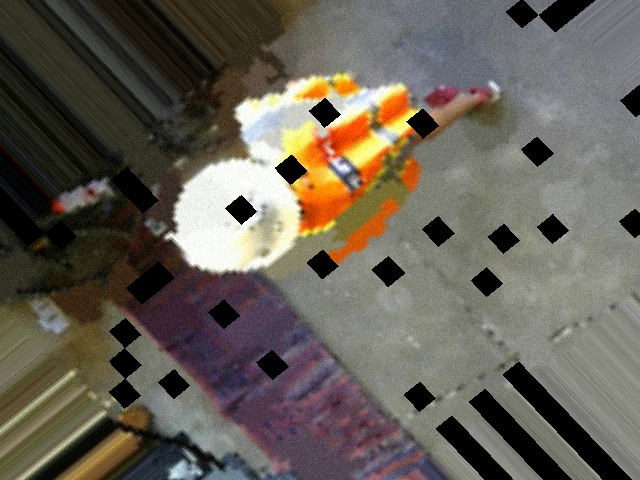eight: (207, 177, 275, 240)
